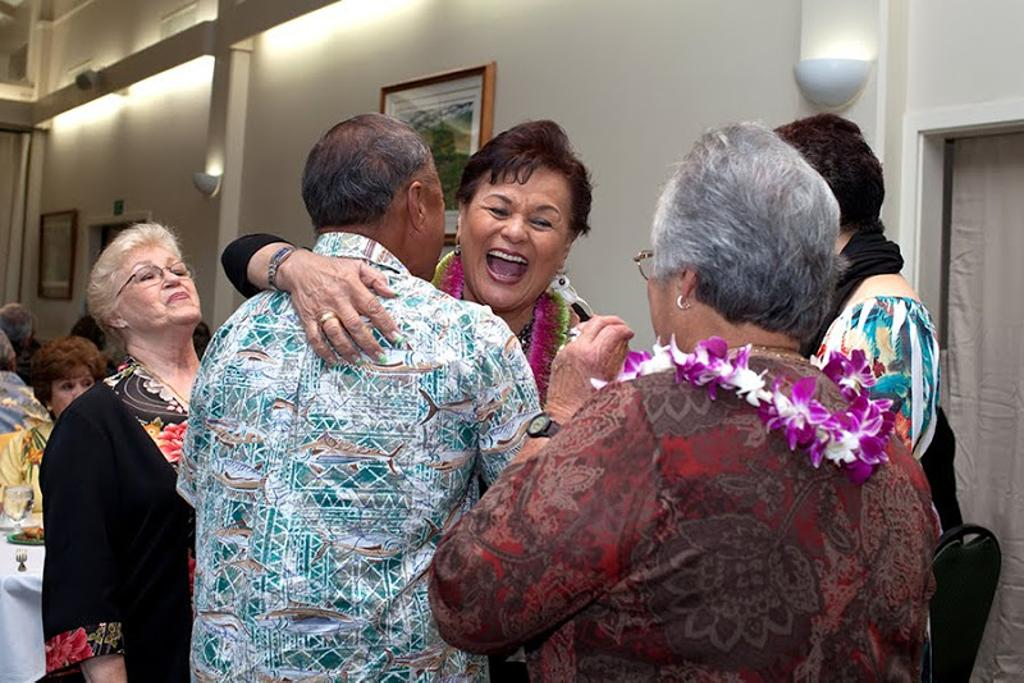face: (461, 167, 573, 307), (648, 234, 713, 347), (112, 250, 202, 319), (386, 175, 445, 277), (52, 369, 97, 422)
